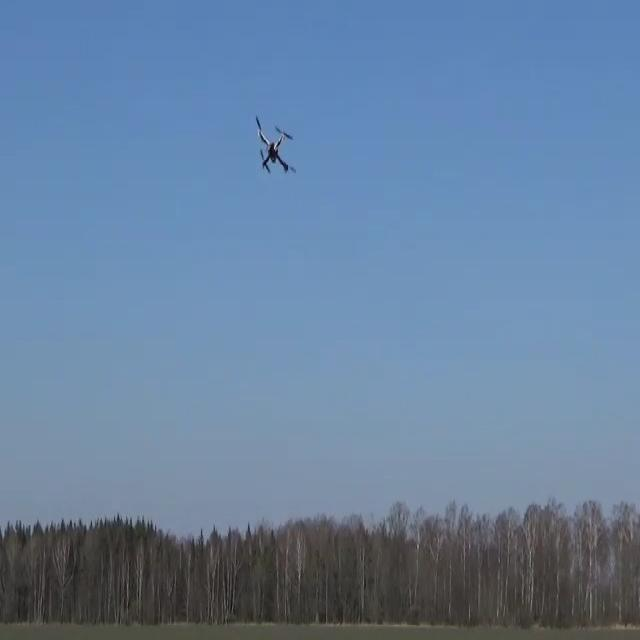drone: (255, 115, 295, 174)
